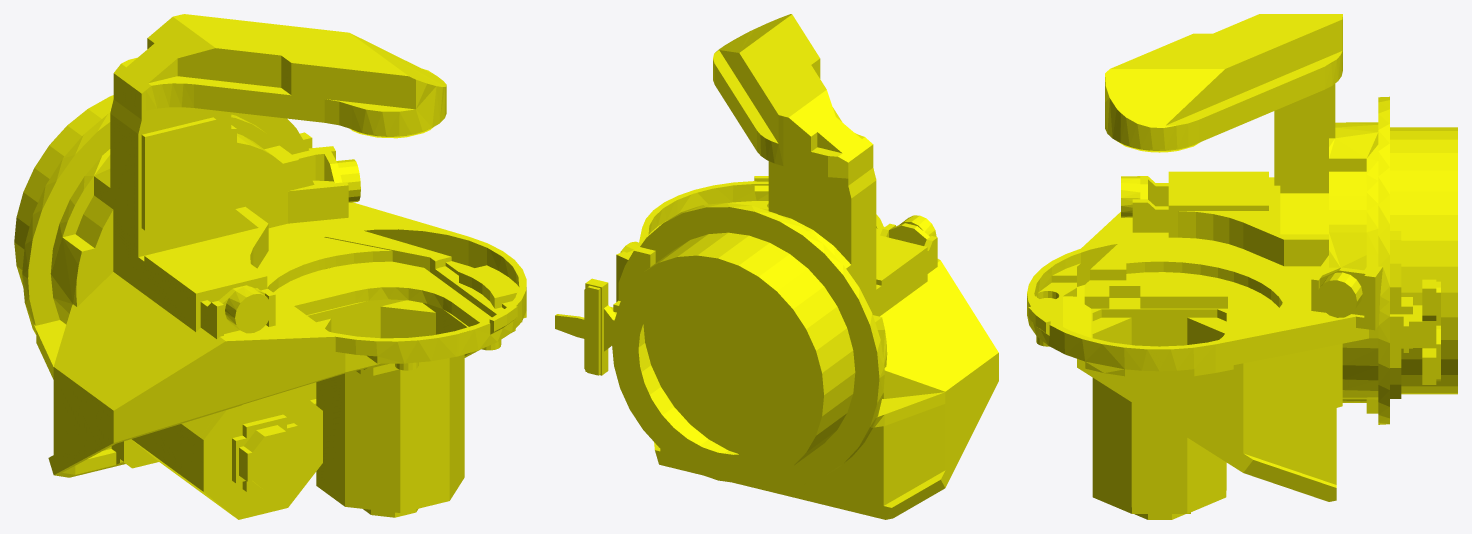
3 renders of one model, left to right at view 1: azimuth 30°, elevation 25°; view 2: azimuth 150°, elevation 25°; view 3: azimuth 270°, elevation 25°, orthographic. The views are drawn at different scales.
Visible parts, largest first — view 1: node; view 2: node; view 3: node.
Part boxes in pixels (x1=…): node: x1=14, y1=14, x2=526, y2=519; node: x1=555, y1=14, x2=998, y2=519; node: x1=1027, y1=14, x2=1457, y2=519.
Size of the model in its own units: 566 by 624 by 559.
